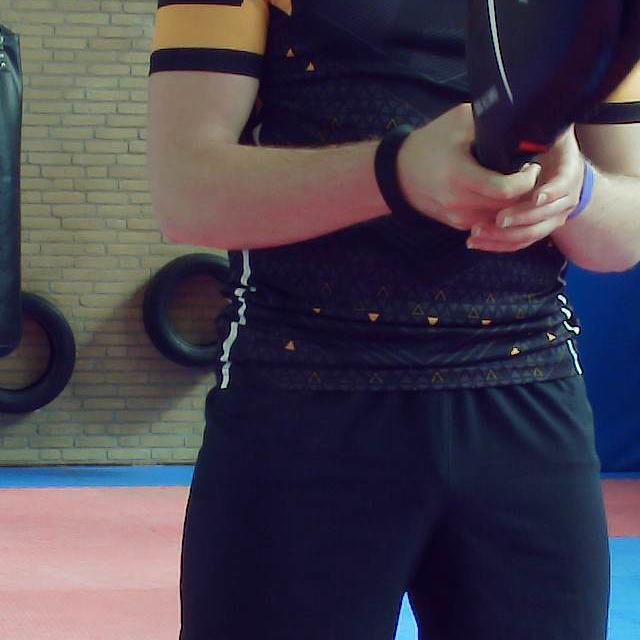paddle: (473, 0, 640, 167)
